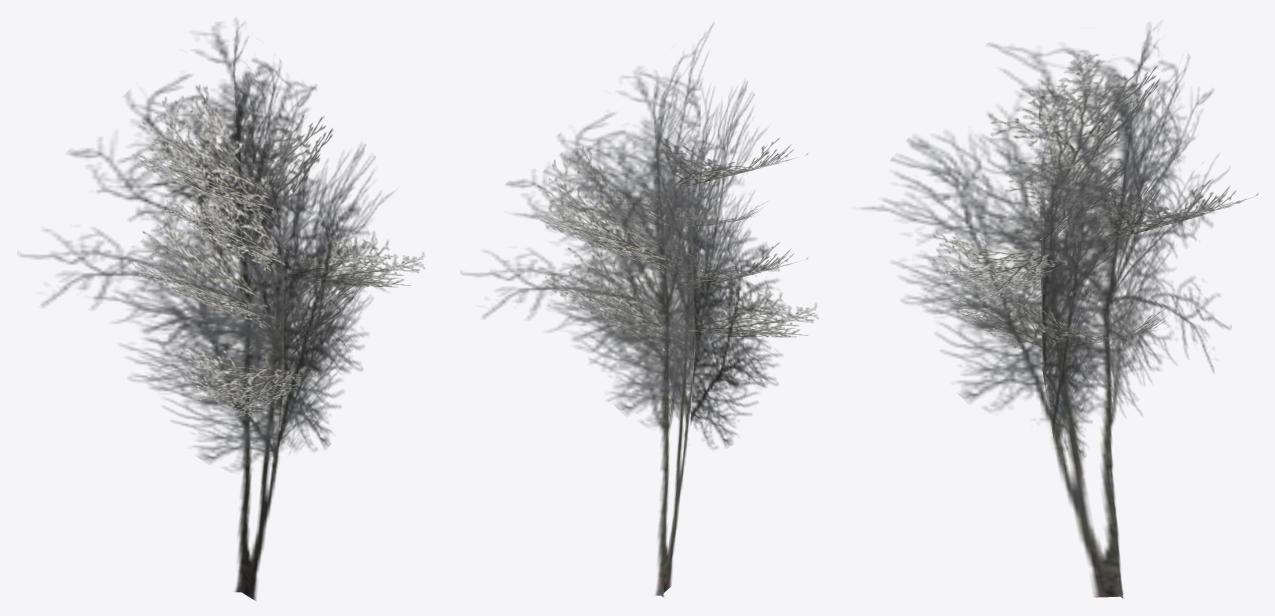
Rendered from wtree_g.glb.
3 renders of one model, left to right at view 1: azimuth 30°, elevation 25°; view 2: azimuth 150°, elevation 25°; view 3: azimuth 270°, elevation 25°, orthographic. The views are drawn at different scales.
Parts seen in each view (by area): view 1: Winter_Trees_Planes.003, Winter_Trees_Branches.014; view 2: Winter_Trees_Planes.003, Winter_Trees_Branches.014; view 3: Winter_Trees_Planes.003, Winter_Trees_Branches.014.
Part boxes in pixels (box(x1,y1,x2,y2)): Winter_Trees_Planes.003: box(17, 18, 393, 600); Winter_Trees_Branches.014: box(132, 85, 424, 417); Winter_Trees_Planes.003: box(460, 22, 796, 597); Winter_Trees_Branches.014: box(537, 138, 818, 355); Winter_Trees_Planes.003: box(861, 22, 1231, 598); Winter_Trees_Branches.014: box(933, 51, 1258, 348).
Size of the model in its own units: 7.51 by 12.13 by 7.92.
Materials: 2 (2 with a texture image).
